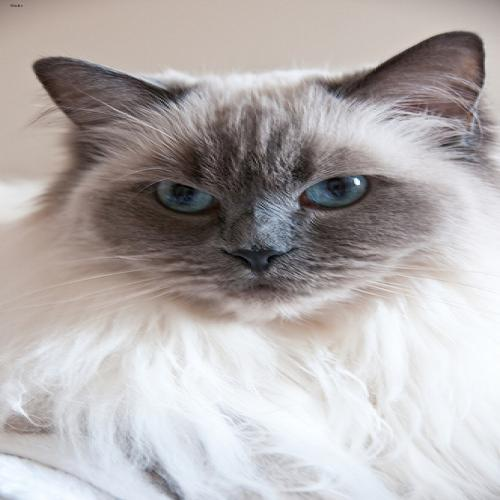ragdoll: (13, 32, 500, 329)
